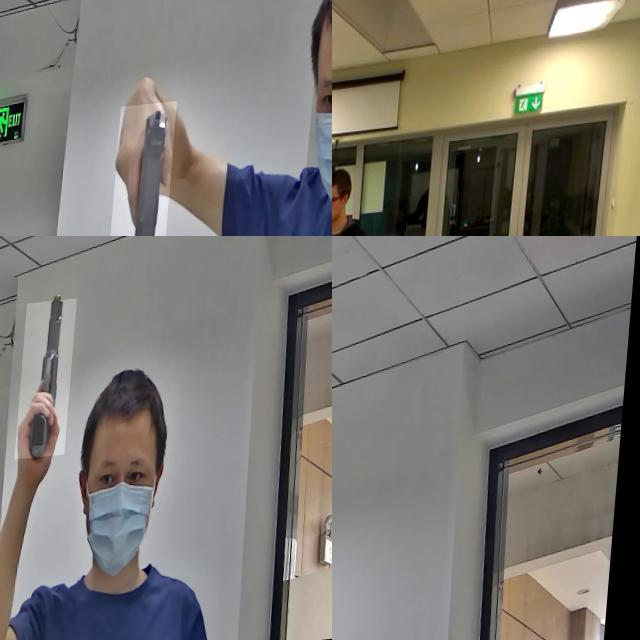gun-knife-thesis - v11 Yolov5 augmented: (22, 305, 82, 465), (111, 107, 183, 236), (332, 445, 357, 640)
